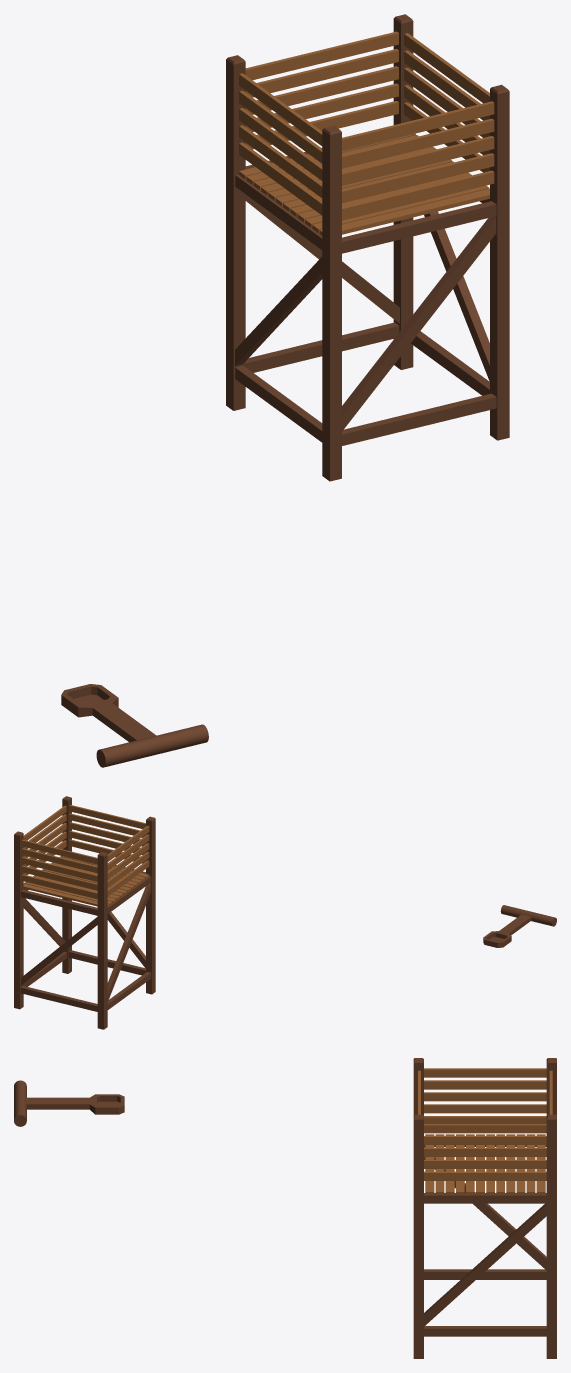
Rendered from Tower_1_Wood.fbx.
3 renders of one model, top to bottom at view 1: azimuth 30°, elevation 25°; view 2: azimuth 150°, elevation 25°; view 3: azimuth 270°, elevation 25°, orthographic. The views are drawn at different scales.
Parts seen in each view (by area): view 1: Tower_1_Wood, mobile_catapult-1; view 2: Tower_1_Wood, mobile_catapult-1; view 3: Tower_1_Wood, mobile_catapult-1.
Boxes of the visible parts, x1,y1,x2,y2 form: Tower_1_Wood: (226,14,509,481); mobile_catapult-1: (61,684,208,767); Tower_1_Wood: (14,796,155,1029); mobile_catapult-1: (483,905,556,947); Tower_1_Wood: (413,1058,556,1358); mobile_catapult-1: (14,1080,124,1126).
Bounding box in the file's own units: 1.88 × 0.905 × 1.85.
